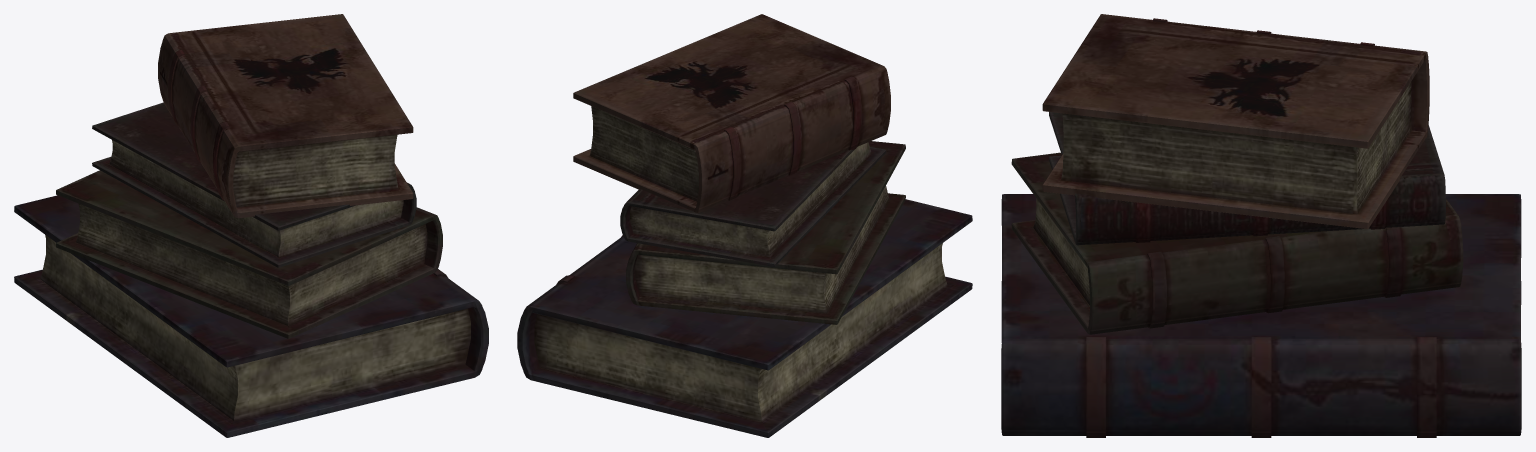
File: medieval_book_stack.glb
3 renders of one model, left to right at view 1: azimuth 30°, elevation 25°; view 2: azimuth 150°, elevation 25°; view 3: azimuth 270°, elevation 25°, orthographic. The views are drawn at different scales.
Parts seen in each view (by area): view 1: book1_low1; view 2: book1_low1; view 3: book1_low1.
Part boxes in pixels (box(x1,y1,x2,y2)): book1_low1: box(14, 14, 488, 437); book1_low1: box(517, 14, 972, 437); book1_low1: box(1001, 14, 1521, 437).
Bounding box in the file's own units: 31.38 × 26.96 × 41.25.
Materials: 1 (1 with a texture image).
